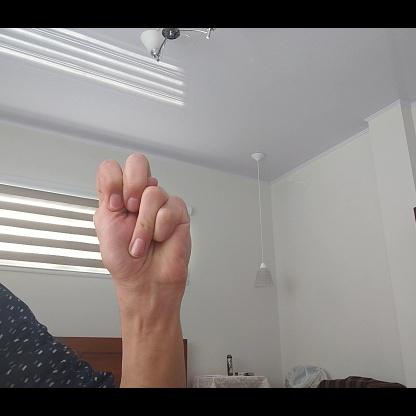N: (92, 152, 193, 304)
